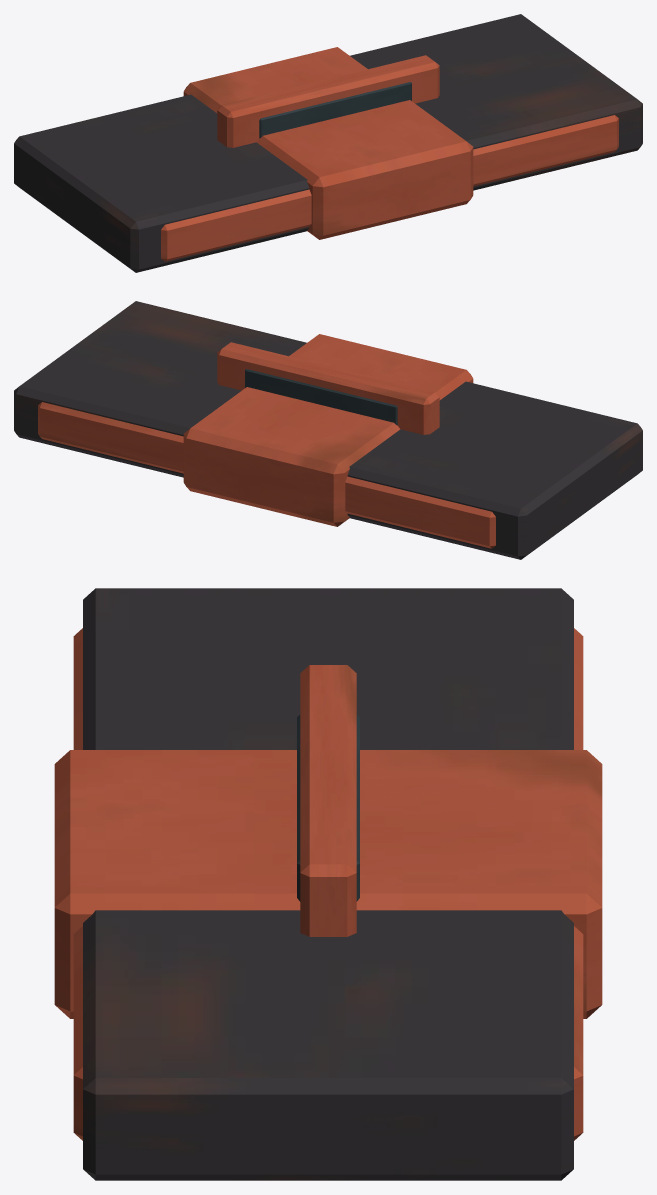
The model's file is car-chunks-sedan.glb.
3 renders of one model, top to bottom at view 1: azimuth 30°, elevation 25°; view 2: azimuth 150°, elevation 25°; view 3: azimuth 270°, elevation 25°, orthographic. The views are drawn at different scales.
Visible parts, largest first — view 1: chassis, hood, roof, door; view 2: chassis, hood, roof, door; view 3: chassis, hood, door, roof.
Part boxes in pixels (bbox=[...]): chassis: bbox=[14, 14, 642, 272]; hood: bbox=[183, 47, 473, 239]; roof: bbox=[161, 115, 618, 261]; door: bbox=[217, 55, 439, 147]; chassis: bbox=[14, 301, 642, 559]; hood: bbox=[183, 334, 473, 526]; roof: bbox=[38, 402, 495, 548]; door: bbox=[217, 342, 439, 434]; chassis: bbox=[83, 588, 573, 1180]; hood: bbox=[54, 750, 602, 1018]; door: bbox=[297, 665, 359, 936]; roof: bbox=[73, 628, 583, 1140].
Bounding box in the file's own units: 3.76 × 0.8401 × 1.74.
Materials: 1 (1 with a texture image).
